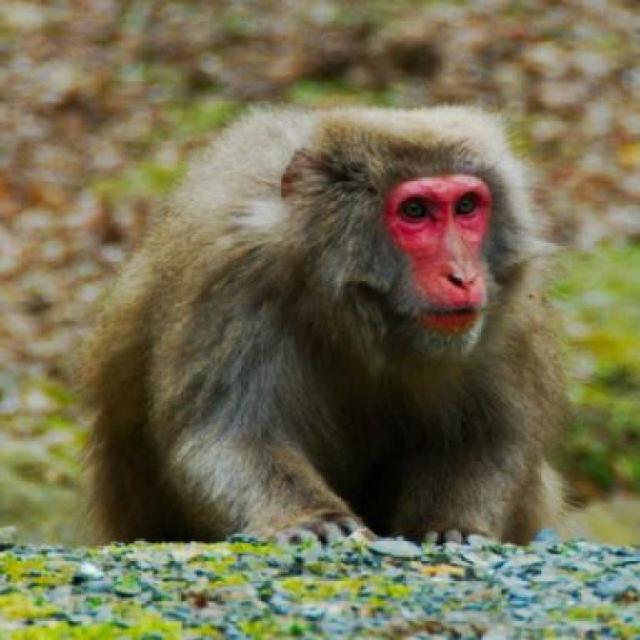Monkey: (38, 69, 602, 523)
